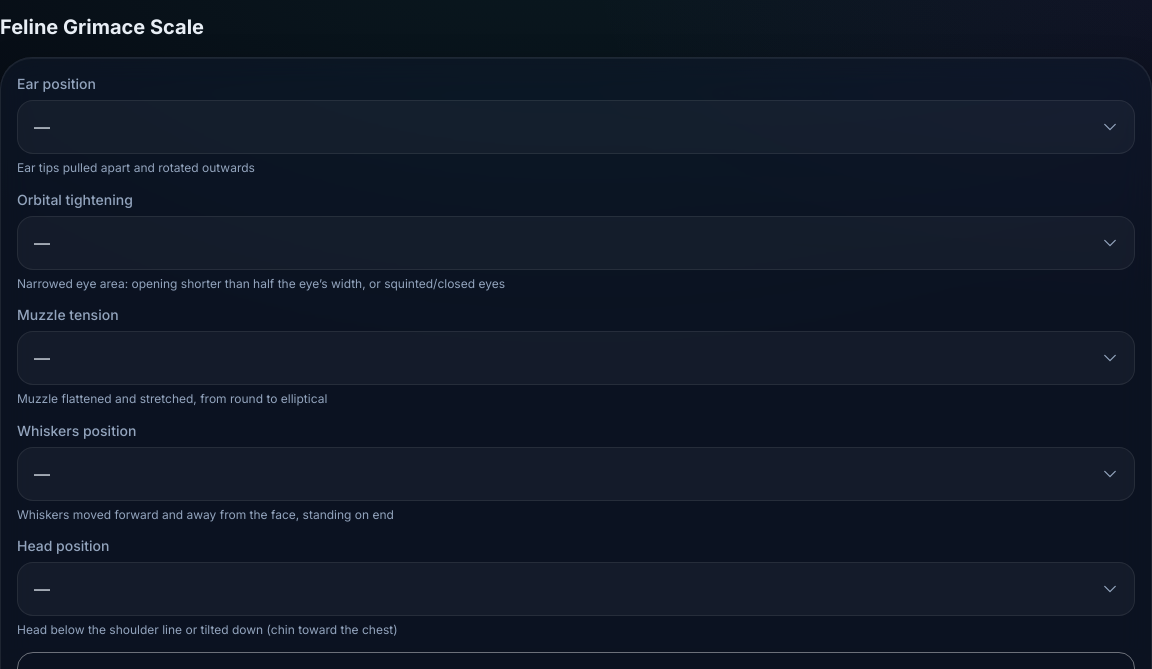
Test case: bedside calculators › feline grimace scale: 4 of 10 is 0.40 and above the analgesia cut-off
Select "2 — obviously present" in the dropdown labelled "Ear position" at coordinates (576, 127), box [17, 100, 1135, 154]
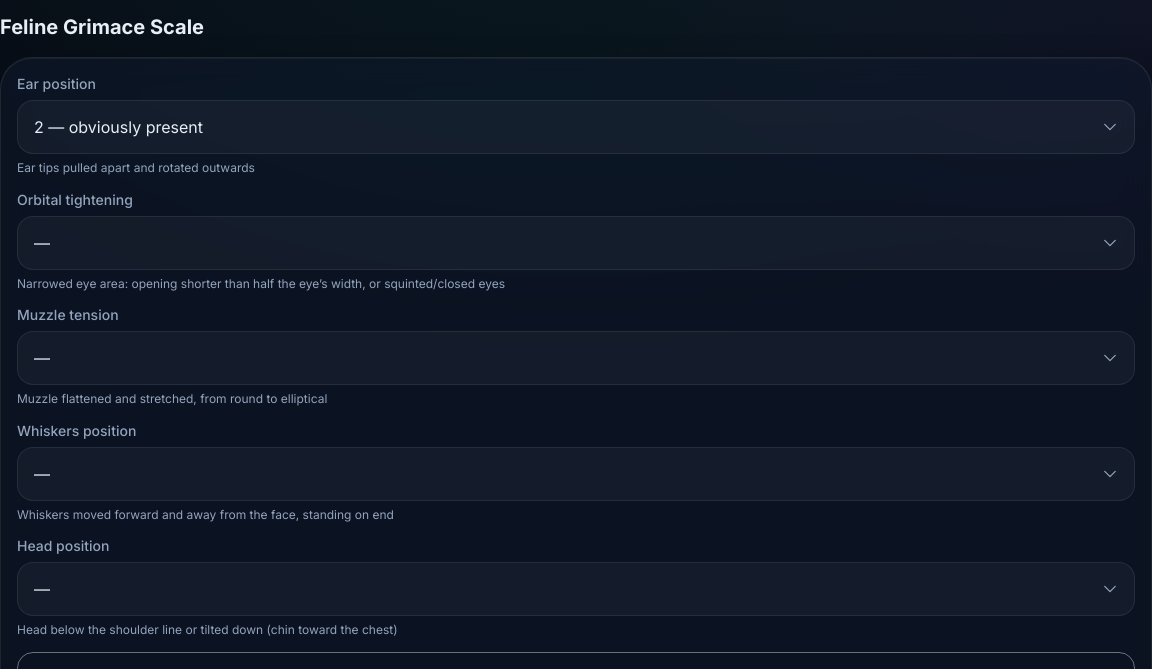
Select "2 — obviously present" in the dropdown labelled "Orbital tightening" at coordinates (576, 242), box [17, 216, 1135, 270]
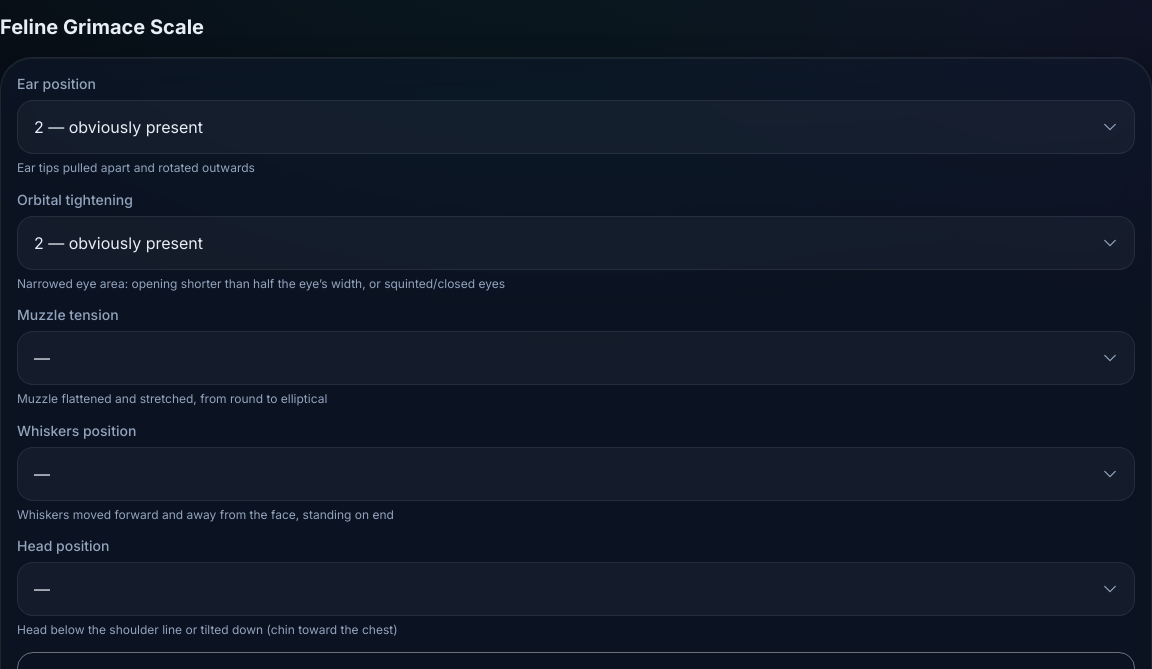
Select "0 — absent" in the dropdown labelled "Muzzle tension" at coordinates (576, 358), box [17, 331, 1135, 385]
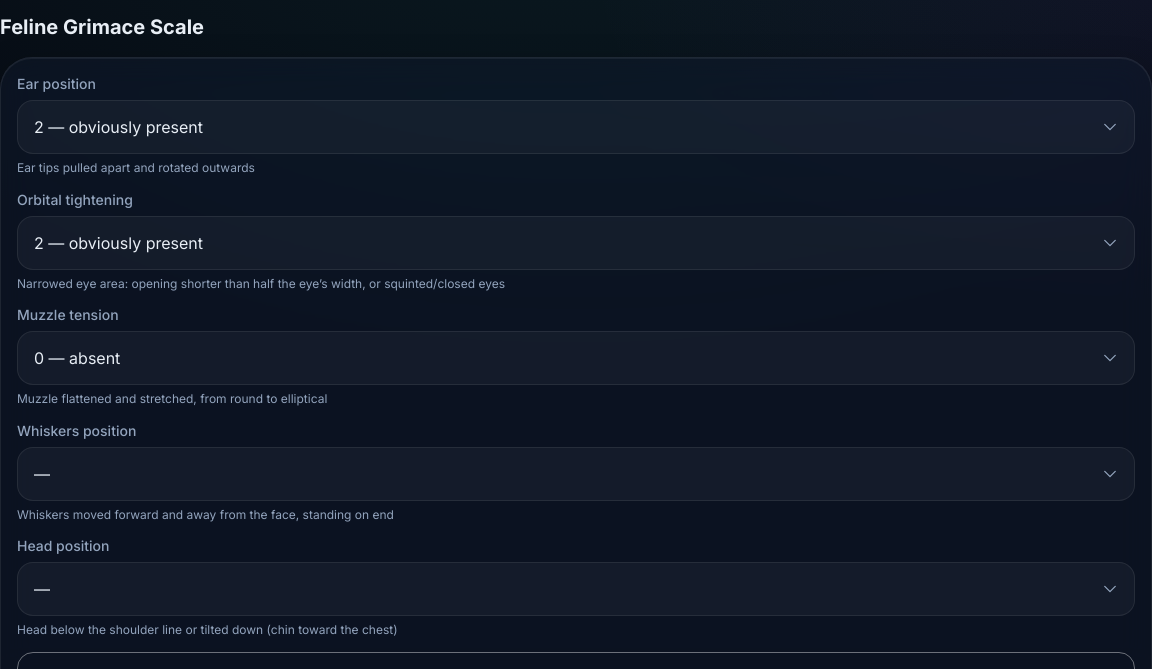
Select "0 — absent" in the dropdown labelled "Whiskers position" at coordinates (576, 474), box [17, 446, 1135, 500]
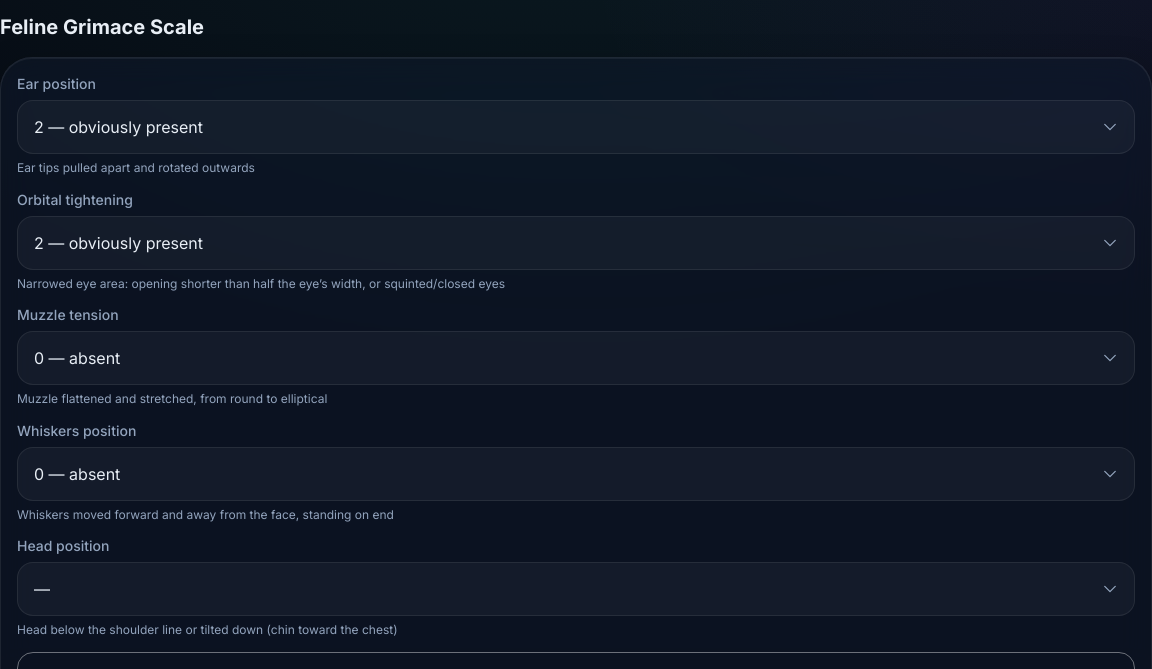
Select "0 — absent" in the dropdown labelled "Head position" at coordinates (576, 589), box [17, 562, 1135, 616]
(page scrolled)
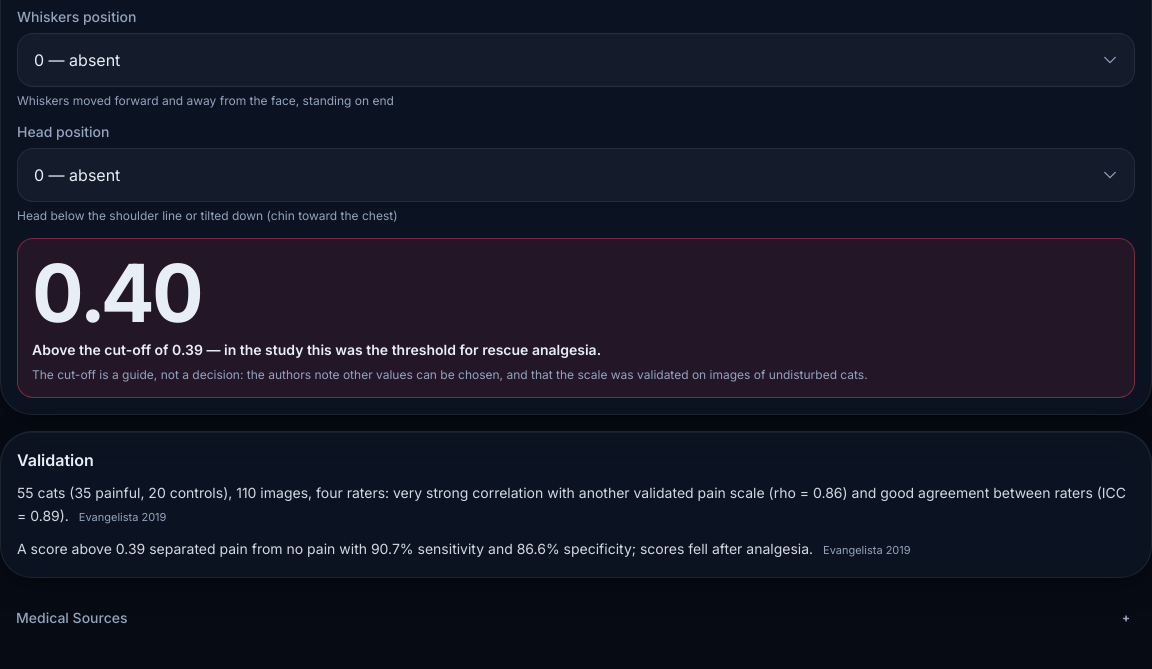
Result: the message shows "0.40" at [32, 244, 202, 340]
Result: the message shows "Above the cut-off of 0.39" at [32, 340, 601, 358]
